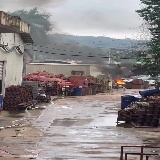fire: (116, 79, 126, 84)
